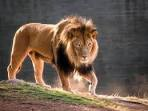lion: (12, 21, 100, 94)
